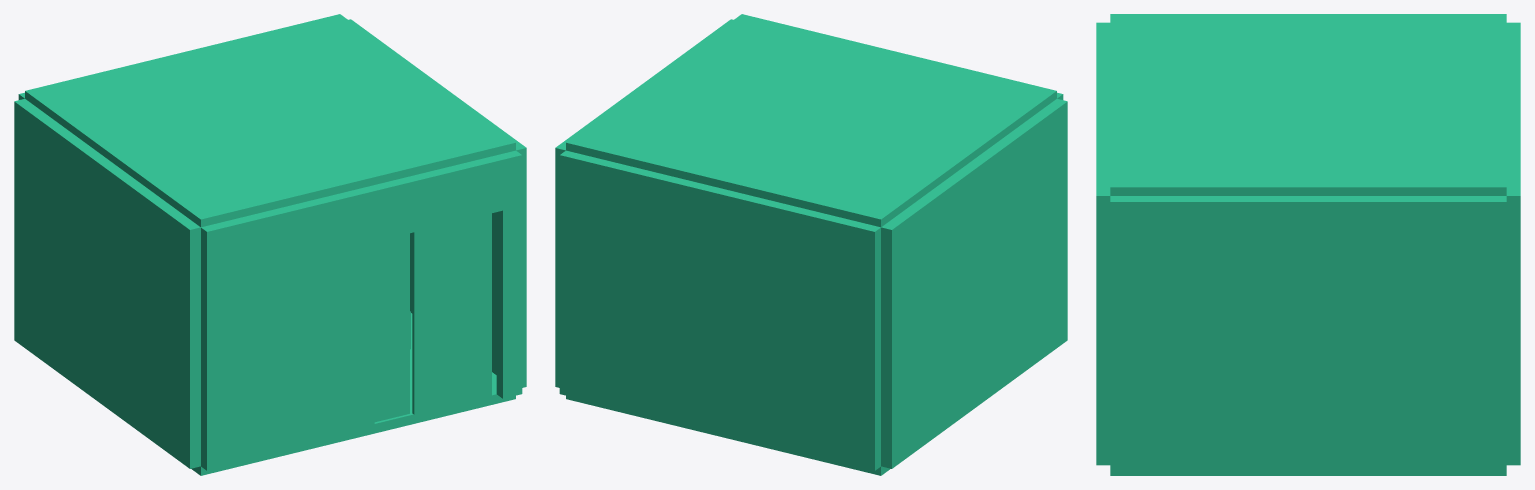
Rendered from office_collision.glb.
3 views of the same model, side by side, from view 1: azimuth 30°, elevation 25°; view 2: azimuth 150°, elevation 25°; view 3: azimuth 270°, elevation 25° (orthographic). The views are drawn at different scales.
Parts seen in each view (by area): view 1: COL_010_Ceiling, COL_001_AccentWall, COL_005_EntryPier, COL_009_Door, COL_007_EntryHeader, COL_008_Sidelight, COL_006_EntryPier, COL_002_RightWall, COL_000_Floor; view 2: COL_003_RearWall, COL_010_Ceiling, COL_001_AccentWall, COL_002_RightWall, COL_000_Floor; view 3: COL_002_RightWall, COL_010_Ceiling, COL_003_RearWall, COL_006_EntryPier, COL_000_Floor, COL_005_EntryPier, COL_007_EntryHeader.
Boxes of the visible parts, <box> form: COL_010_Ceiling: <box>25,14,515,227</box>; COL_001_AccentWall: <box>14,99,200,468</box>; COL_005_EntryPier: <box>201,186,374,470</box>; COL_009_Door: <box>412,213,491,414</box>; COL_007_EntryHeader: <box>368,155,502,241</box>; COL_008_Sidelight: <box>374,233,409,422</box>; COL_006_EntryPier: <box>496,150,522,398</box>; COL_002_RightWall: <box>348,19,526,387</box>; COL_000_Floor: <box>191,313,515,475</box>; COL_003_RearWall: <box>559,150,880,470</box>; COL_010_Ceiling: <box>566,14,1056,227</box>; COL_001_AccentWall: <box>881,99,1067,468</box>; COL_002_RightWall: <box>555,19,733,387</box>; COL_000_Floor: <box>566,395,890,475</box>; COL_002_RightWall: <box>1110,196,1506,470</box>; COL_010_Ceiling: <box>1110,14,1506,195</box>; COL_003_RearWall: <box>1506,22,1520,465</box>; COL_006_EntryPier: <box>1096,185,1110,465</box>; COL_000_Floor: <box>1110,471,1506,475</box>; COL_005_EntryPier: <box>1096,22,1110,114</box>; COL_007_EntryHeader: <box>1096,115,1110,185</box>.
Bounding box in the file's own units: 4.04 × 2.94 × 3.92.
